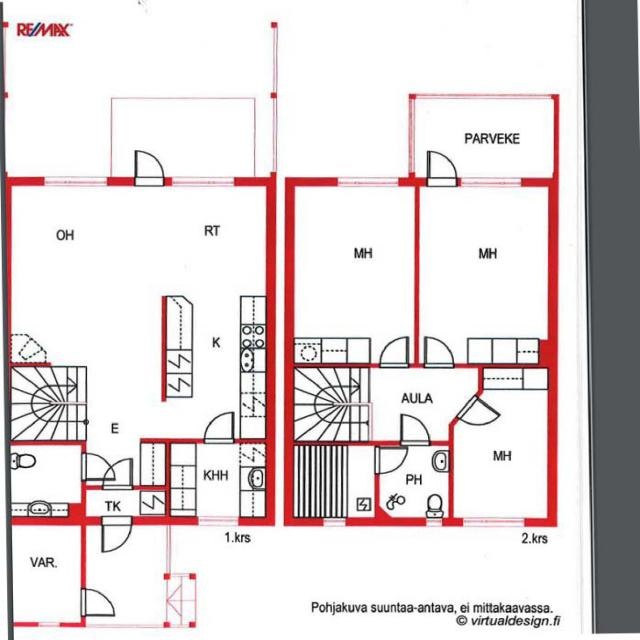door: (455, 395, 501, 436), (134, 149, 164, 186), (102, 516, 132, 553), (427, 151, 456, 186), (400, 414, 430, 446), (204, 411, 233, 443), (103, 458, 132, 490), (81, 453, 115, 480), (80, 589, 114, 615), (374, 448, 408, 473), (425, 337, 453, 367), (380, 337, 408, 367)
